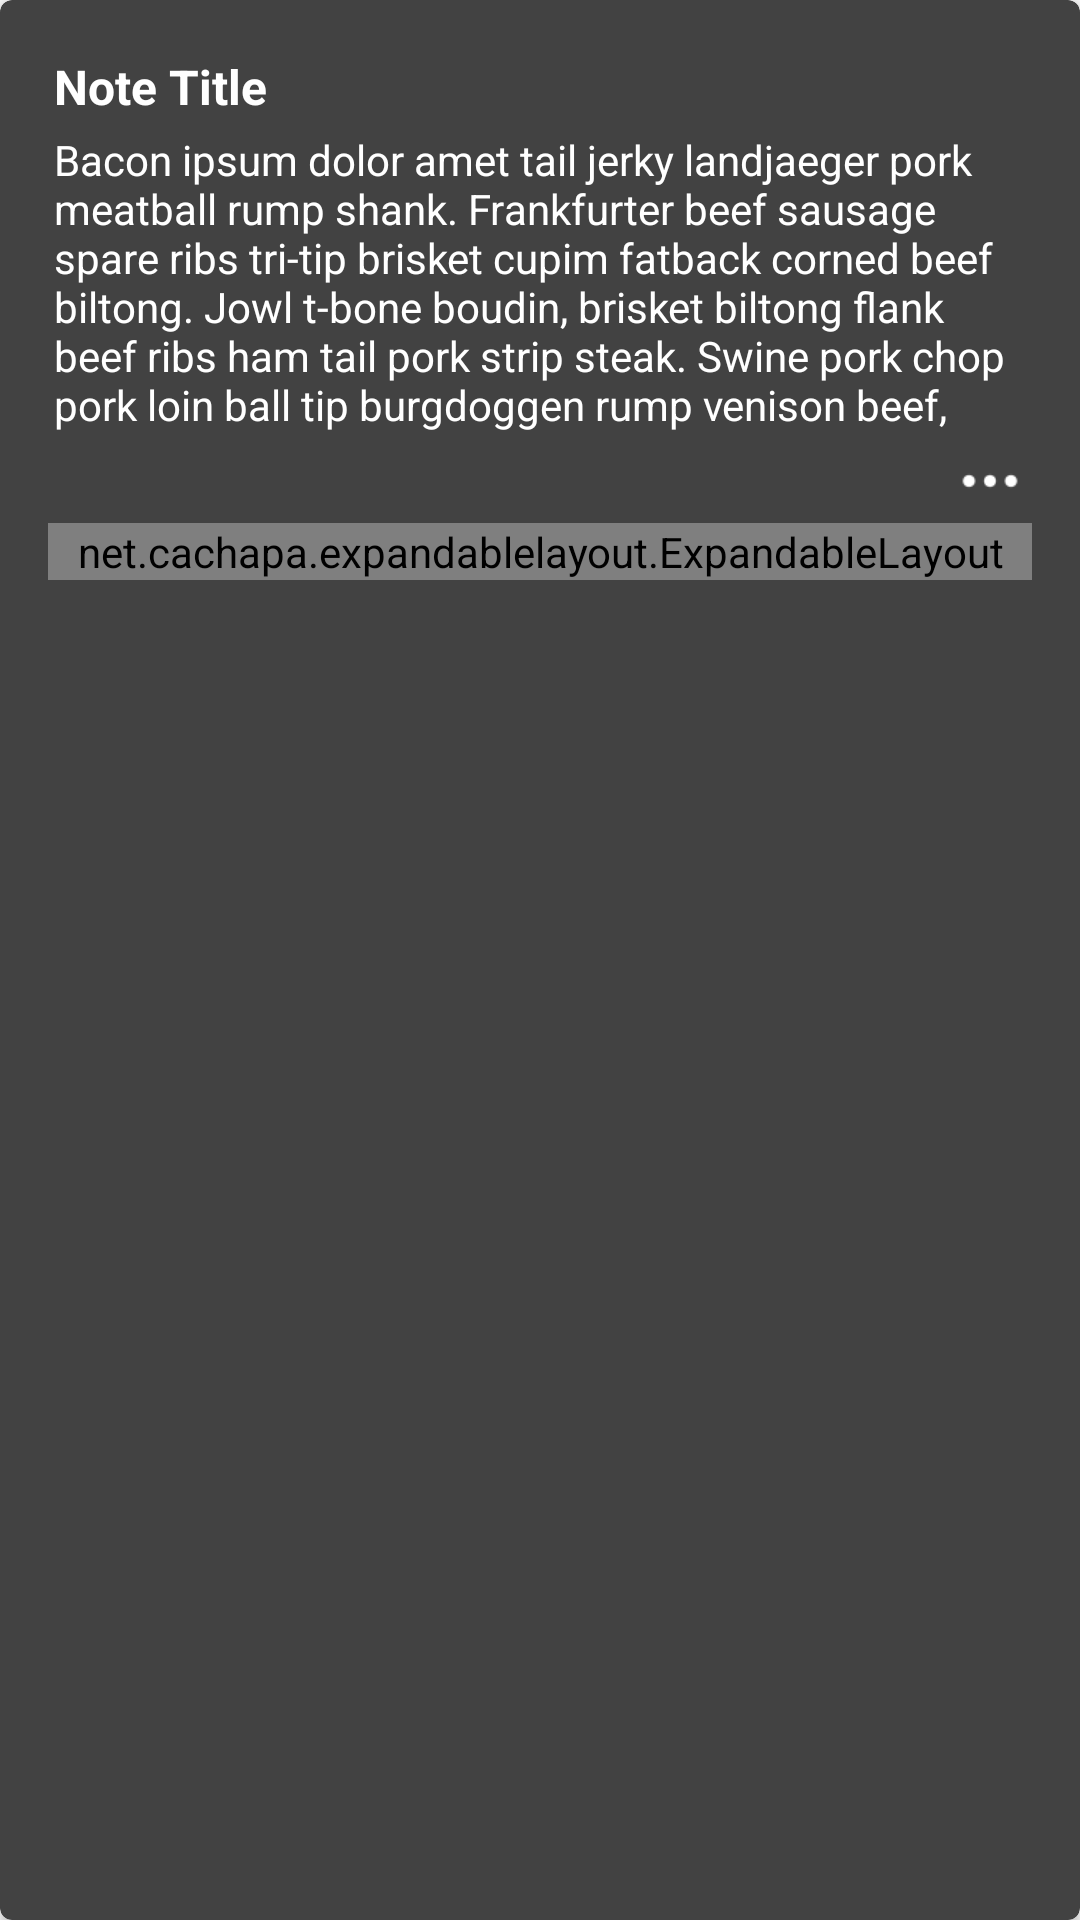

Icons on this 1080 x 1920 Android screen, each with its box as (x1, y1, x2, y2):
View More: (962, 475, 1018, 487)
